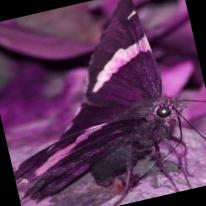butterfly: (14, 0, 179, 200)
